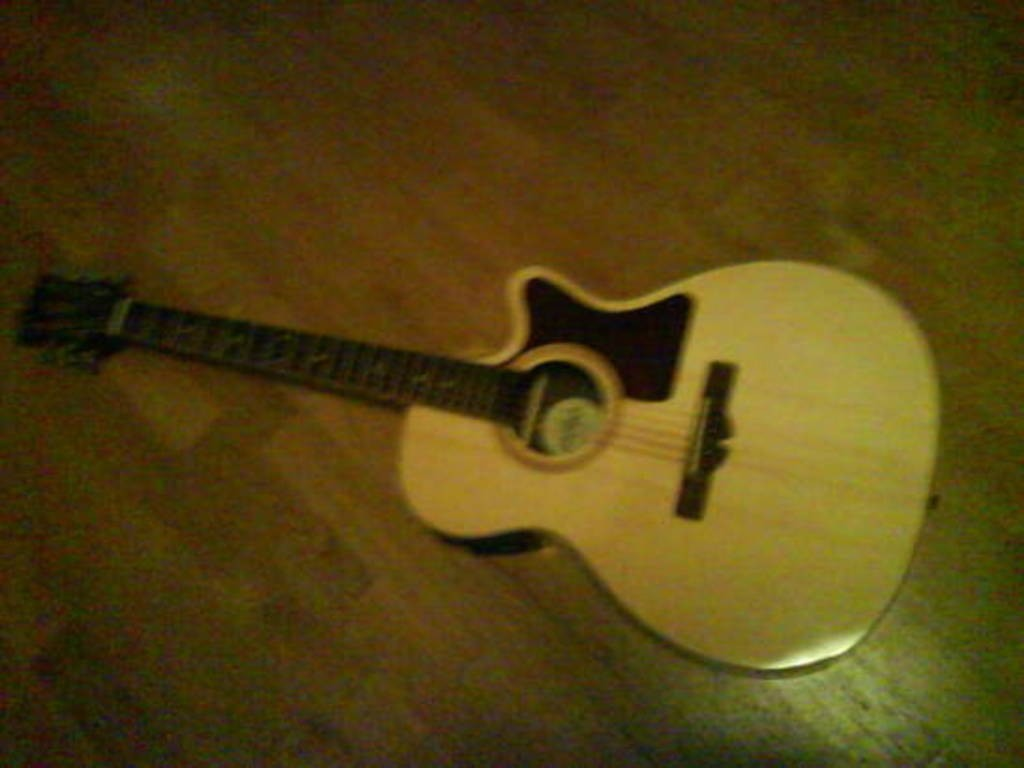guitar: (15, 259, 942, 682)
